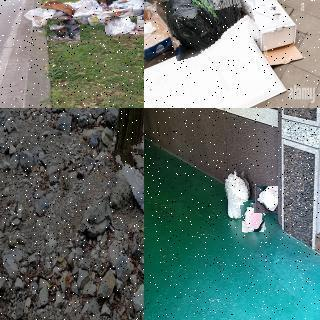Garbage: (161, 0, 256, 55), (116, 143, 144, 219), (225, 170, 255, 222), (241, 203, 265, 233), (47, 19, 80, 40), (256, 187, 280, 215), (105, 16, 138, 35)
